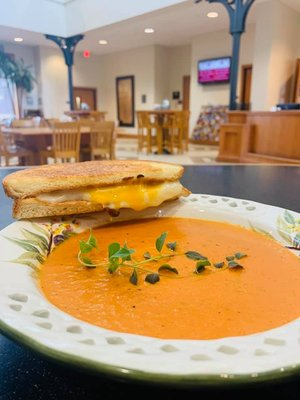curry: (0, 118, 113, 165)
pasta: (44, 127, 81, 165), (137, 112, 163, 156), (90, 121, 116, 161)
sushi: (197, 57, 232, 84)
